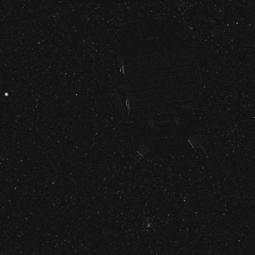proba_2: (102, 43, 220, 182)
